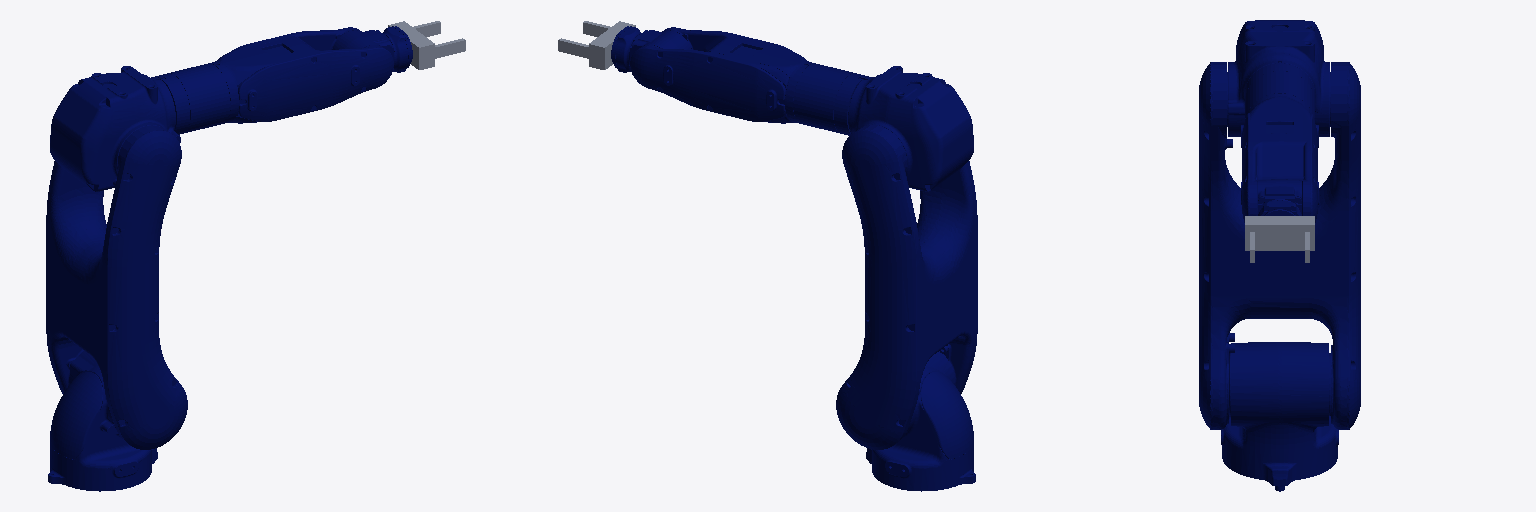
robot.urdf — gp7_with_parallel_gripper:
<?xml version='1.0' encoding='utf-8'?>
<robot name="gp7_with_parallel_gripper">
  <!--CAD Home pose is q=0 in this export. Manufacturer zero/sign mapping and arm inertias/controllers are NOT verified. STL coordinates are METRES; do not apply 0.001 scale.-->
  <link name="base_link">
    <visual>
      <origin xyz="0 0 0" rpy="0 0 0" />
      <geometry>
        <mesh filename="package://gp7_description/meshes/base_link.stl" scale="1 1 1" />
      </geometry>
      <material name="yaskawa_blue">
        <color rgba="0.05 0.10 0.40 1" />
      </material>
    </visual>
    <collision>
      <origin xyz="0 0 0" rpy="0 0 0" />
      <geometry>
        <mesh filename="package://gp7_description/meshes/base_link.stl" scale="1 1 1" />
      </geometry>
    </collision>
  </link>
  <link name="link_s">
    <visual>
      <origin xyz="0 0 0" rpy="0 0 0" />
      <geometry>
        <mesh filename="package://gp7_description/meshes/link_s.stl" scale="1 1 1" />
      </geometry>
      <material name="yaskawa_blue">
        <color rgba="0.05 0.10 0.40 1" />
      </material>
    </visual>
    <collision>
      <origin xyz="0 0 0" rpy="0 0 0" />
      <geometry>
        <mesh filename="package://gp7_description/meshes/link_s.stl" scale="1 1 1" />
      </geometry>
    </collision>
  </link>
  <link name="link_l">
    <visual>
      <origin xyz="0 0 0" rpy="0 0 0" />
      <geometry>
        <mesh filename="package://gp7_description/meshes/link_l.stl" scale="1 1 1" />
      </geometry>
      <material name="yaskawa_blue">
        <color rgba="0.05 0.10 0.40 1" />
      </material>
    </visual>
    <collision>
      <origin xyz="0 0 0" rpy="0 0 0" />
      <geometry>
        <mesh filename="package://gp7_description/meshes/link_l.stl" scale="1 1 1" />
      </geometry>
    </collision>
  </link>
  <link name="link_u">
    <visual>
      <origin xyz="0 0 0" rpy="0 0 0" />
      <geometry>
        <mesh filename="package://gp7_description/meshes/link_u.stl" scale="1 1 1" />
      </geometry>
      <material name="yaskawa_blue">
        <color rgba="0.05 0.10 0.40 1" />
      </material>
    </visual>
    <collision>
      <origin xyz="0 0 0" rpy="0 0 0" />
      <geometry>
        <mesh filename="package://gp7_description/meshes/link_u.stl" scale="1 1 1" />
      </geometry>
    </collision>
  </link>
  <link name="link_r">
    <visual>
      <origin xyz="0 0 0" rpy="0 0 0" />
      <geometry>
        <mesh filename="package://gp7_description/meshes/link_r.stl" scale="1 1 1" />
      </geometry>
      <material name="yaskawa_blue">
        <color rgba="0.05 0.10 0.40 1" />
      </material>
    </visual>
    <collision>
      <origin xyz="0 0 0" rpy="0 0 0" />
      <geometry>
        <mesh filename="package://gp7_description/meshes/link_r.stl" scale="1 1 1" />
      </geometry>
    </collision>
  </link>
  <link name="link_b">
    <visual>
      <origin xyz="0 0 0" rpy="0 0 0" />
      <geometry>
        <mesh filename="package://gp7_description/meshes/link_b.stl" scale="1 1 1" />
      </geometry>
      <material name="yaskawa_blue">
        <color rgba="0.05 0.10 0.40 1" />
      </material>
    </visual>
    <collision>
      <origin xyz="0 0 0" rpy="0 0 0" />
      <geometry>
        <mesh filename="package://gp7_description/meshes/link_b.stl" scale="1 1 1" />
      </geometry>
    </collision>
  </link>
  <link name="link_t">
    <visual>
      <origin xyz="0 0 0" rpy="0 0 0" />
      <geometry>
        <mesh filename="package://gp7_description/meshes/link_t.stl" scale="1 1 1" />
      </geometry>
      <material name="yaskawa_blue">
        <color rgba="0.05 0.10 0.40 1" />
      </material>
    </visual>
    <collision>
      <origin xyz="0 0 0" rpy="0 0 0" />
      <geometry>
        <mesh filename="package://gp7_description/meshes/link_t.stl" scale="1 1 1" />
      </geometry>
    </collision>
  </link>
  <joint name="joint_s" type="revolute">
    <parent link="base_link" />
    <child link="link_s" />
    <origin xyz="2.8796409701215e-14 7.477778794572125e-15 0.1990000000009829" rpy="-3.565297174746065e-12 -5.01588403447336e-12 6.772877370053628e-09" />
    <axis xyz="0 0 1" />
    <limit lower="-2.9670597283903604" upper="2.9670597283903604" velocity="6.54" effort="100" />
  </joint>
  <joint name="joint_l" type="revolute">
    <parent link="link_s" />
    <child link="link_l" />
    <origin xyz="0.0400000001871355 -4.744709099523959e-13 0.1309999999994937" rpy="1.570796326798462 1.576550471520488e-09 2.392092974394971e-17" />
    <axis xyz="0 0 1" />
    <limit lower="-1.1344640137963142" upper="2.530727415391778" velocity="5.5" effort="100" />
  </joint>
  <joint name="joint_u" type="revolute">
    <parent link="link_l" />
    <child link="link_u" />
    <origin xyz="-1.580974653922384e-16 0.4449999999999997 7.606046331844441e-18" rpy="2.391543871048833e-17 -4.866734244067944e-18 1.570796326794897" />
    <axis xyz="0 0 1" />
    <limit lower="-1.2217304763960306" upper="3.3161255787892263" velocity="7.15" effort="100" />
  </joint>
  <joint name="joint_r" type="revolute">
    <parent link="link_u" />
    <child link="link_r" />
    <origin xyz="0.04000000000000013 -1.350451391447337e-12 1.525362854968206e-13" rpy="1.570796326794897 2.0895217123123e-16 -3.376083744650431e-11" />
    <axis xyz="0 0 1" />
    <limit lower="-3.3161255787892263" upper="3.3161255787892263" velocity="9.59" effort="100" />
  </joint>
  <joint name="joint_b" type="revolute">
    <parent link="link_r" />
    <child link="link_b" />
    <origin xyz="3.345943331422888e-16 1.22464641492429e-18 0.4400000000014415" rpy="-1.570796326794897 3.482797174341522e-11 1.029306142851466e-06" />
    <axis xyz="0 0 1" />
    <limit lower="-2.356194490192345" upper="2.356194490192345" velocity="9.59" effort="100" />
  </joint>
  <joint name="joint_t" type="revolute">
    <parent link="link_b" />
    <child link="link_t" />
    <origin xyz="3.360840796562383e-12 -6.031563000306387e-17 -6.601914147314833e-12" rpy="1.570796326762586 1.025350226870873e-06 -5.596181465990611e-11" />
    <axis xyz="0 0 1" />
    <limit lower="-6.283185307179586" upper="6.283185307179586" velocity="17.45" effort="100" />
  </joint>
  <link name="gripper_palm">
    <inertial>
      <origin xyz="0 0 0.015" rpy="0 0 0" />
      <mass value="0.4" />
      <inertia ixx="0.0003633333333333334" iyy="8.333333333333333e-05" izz="0.0003866666666666667" ixy="0" ixz="0" iyz="0" />
    </inertial>
    <visual>
      <origin xyz="0 0 0.015" rpy="0 0 0" />
      <geometry>
        <box size="0.04 0.1 0.03" />
      </geometry>
      <material name="simulation_grey">
        <color rgba="0.55 0.58 0.65 1" />
      </material>
    </visual>
    <collision>
      <origin xyz="0 0 0.015" rpy="0 0 0" />
      <geometry>
        <box size="0.04 0.1 0.03" />
      </geometry>
    </collision>
  </link>
  <link name="gripper_finger_positive">
    <inertial>
      <origin xyz="0 0 0.03" rpy="0 0 0" />
      <mass value="0.05" />
      <inertia ixx="1.5266666666666667e-05" iyy="1.6666666666666667e-05" izz="1.9333333333333336e-06" ixy="0" ixz="0" iyz="0" />
    </inertial>
    <visual>
      <origin xyz="0 0 0.03" rpy="0 0 0" />
      <geometry>
        <box size="0.02 0.008 0.06" />
      </geometry>
      <material name="simulation_grey">
        <color rgba="0.55 0.58 0.65 1" />
      </material>
    </visual>
    <collision>
      <origin xyz="0 0 0.03" rpy="0 0 0" />
      <geometry>
        <box size="0.02 0.008 0.06" />
      </geometry>
    </collision>
  </link>
  <joint name="gripper_joint_positive" type="prismatic">
    <parent link="gripper_palm" />
    <child link="gripper_finger_positive" />
    <origin xyz="0 0.039 0.03" rpy="0 0 0" />
    <axis xyz="0 -1 0" />
    <limit lower="0" upper="0.012" effort="20" velocity="0.05" />
  </joint>
  <link name="gripper_finger_negative">
    <inertial>
      <origin xyz="0 0 0.03" rpy="0 0 0" />
      <mass value="0.05" />
      <inertia ixx="1.5266666666666667e-05" iyy="1.6666666666666667e-05" izz="1.9333333333333336e-06" ixy="0" ixz="0" iyz="0" />
    </inertial>
    <visual>
      <origin xyz="0 0 0.03" rpy="0 0 0" />
      <geometry>
        <box size="0.02 0.008 0.06" />
      </geometry>
      <material name="simulation_grey">
        <color rgba="0.55 0.58 0.65 1" />
      </material>
    </visual>
    <collision>
      <origin xyz="0 0 0.03" rpy="0 0 0" />
      <geometry>
        <box size="0.02 0.008 0.06" />
      </geometry>
    </collision>
  </link>
  <joint name="gripper_joint_negative" type="prismatic">
    <parent link="gripper_palm" />
    <child link="gripper_finger_negative" />
    <origin xyz="0 -0.039 0.03" rpy="0 0 0" />
    <axis xyz="0 1 0" />
    <limit lower="0" upper="0.012" effort="20" velocity="0.05" />
  </joint>
  <link name="gripper_tcp" />
  <joint name="gripper_tcp_fixed" type="fixed">
    <parent link="gripper_palm" />
    <child link="gripper_tcp" />
    <origin xyz="0 0 0.075" rpy="0 0 0" />
  </joint>
  <joint name="gripper_mount" type="fixed">
    <parent link="link_t" />
    <child link="gripper_palm" />
    <origin xyz="0 0 0.080" rpy="0 0 0" />
  </joint>
</robot>

--- What the picture shows (computed from the rendered views, not written in the file) ---
The picture shows the robot from 3 angles, left to right: view 1: azimuth 30°, elevation 25°; view 2: azimuth 150°, elevation 25°; view 3: azimuth 270°, elevation 25°; orthographic projection.
Robot: gp7_with_parallel_gripper — 11 links, 10 joints (6 revolute, 2 prismatic, 2 fixed); root link base_link; default pose: all joints at 0.
Visible links, largest first — view 1: link_l, link_r, link_u, link_s, link_b, gripper_palm; view 2: link_l, link_r, link_u, link_s, link_b, gripper_palm; view 3: link_l, link_s, link_r, link_u, gripper_palm, link_b.
Link boxes in pixels (x1,y1,x2,y2): link_l: (46, 125, 187, 449); link_r: (155, 27, 393, 134); link_u: (50, 66, 180, 191); link_s: (48, 351, 157, 491); link_b: (332, 26, 411, 74); gripper_palm: (388, 21, 434, 69); link_l: (836, 125, 977, 449); link_r: (630, 27, 868, 135); link_u: (848, 66, 973, 191); link_s: (866, 351, 975, 491); link_b: (612, 26, 691, 74); gripper_palm: (589, 21, 635, 69); link_l: (1199, 62, 1360, 429); link_s: (1221, 342, 1338, 491); link_r: (1241, 63, 1318, 222); link_u: (1227, 20, 1330, 136); gripper_palm: (1245, 216, 1314, 250); link_b: (1258, 179, 1301, 215).
Size in the robot's own frame: 0.747 by 0.23 by 0.6869 metres.
Meshes: 7 distinct files referenced, 6 mesh visuals loaded (6 binary STL); not drawn: 1 (reference not matched to a file when rendering).
